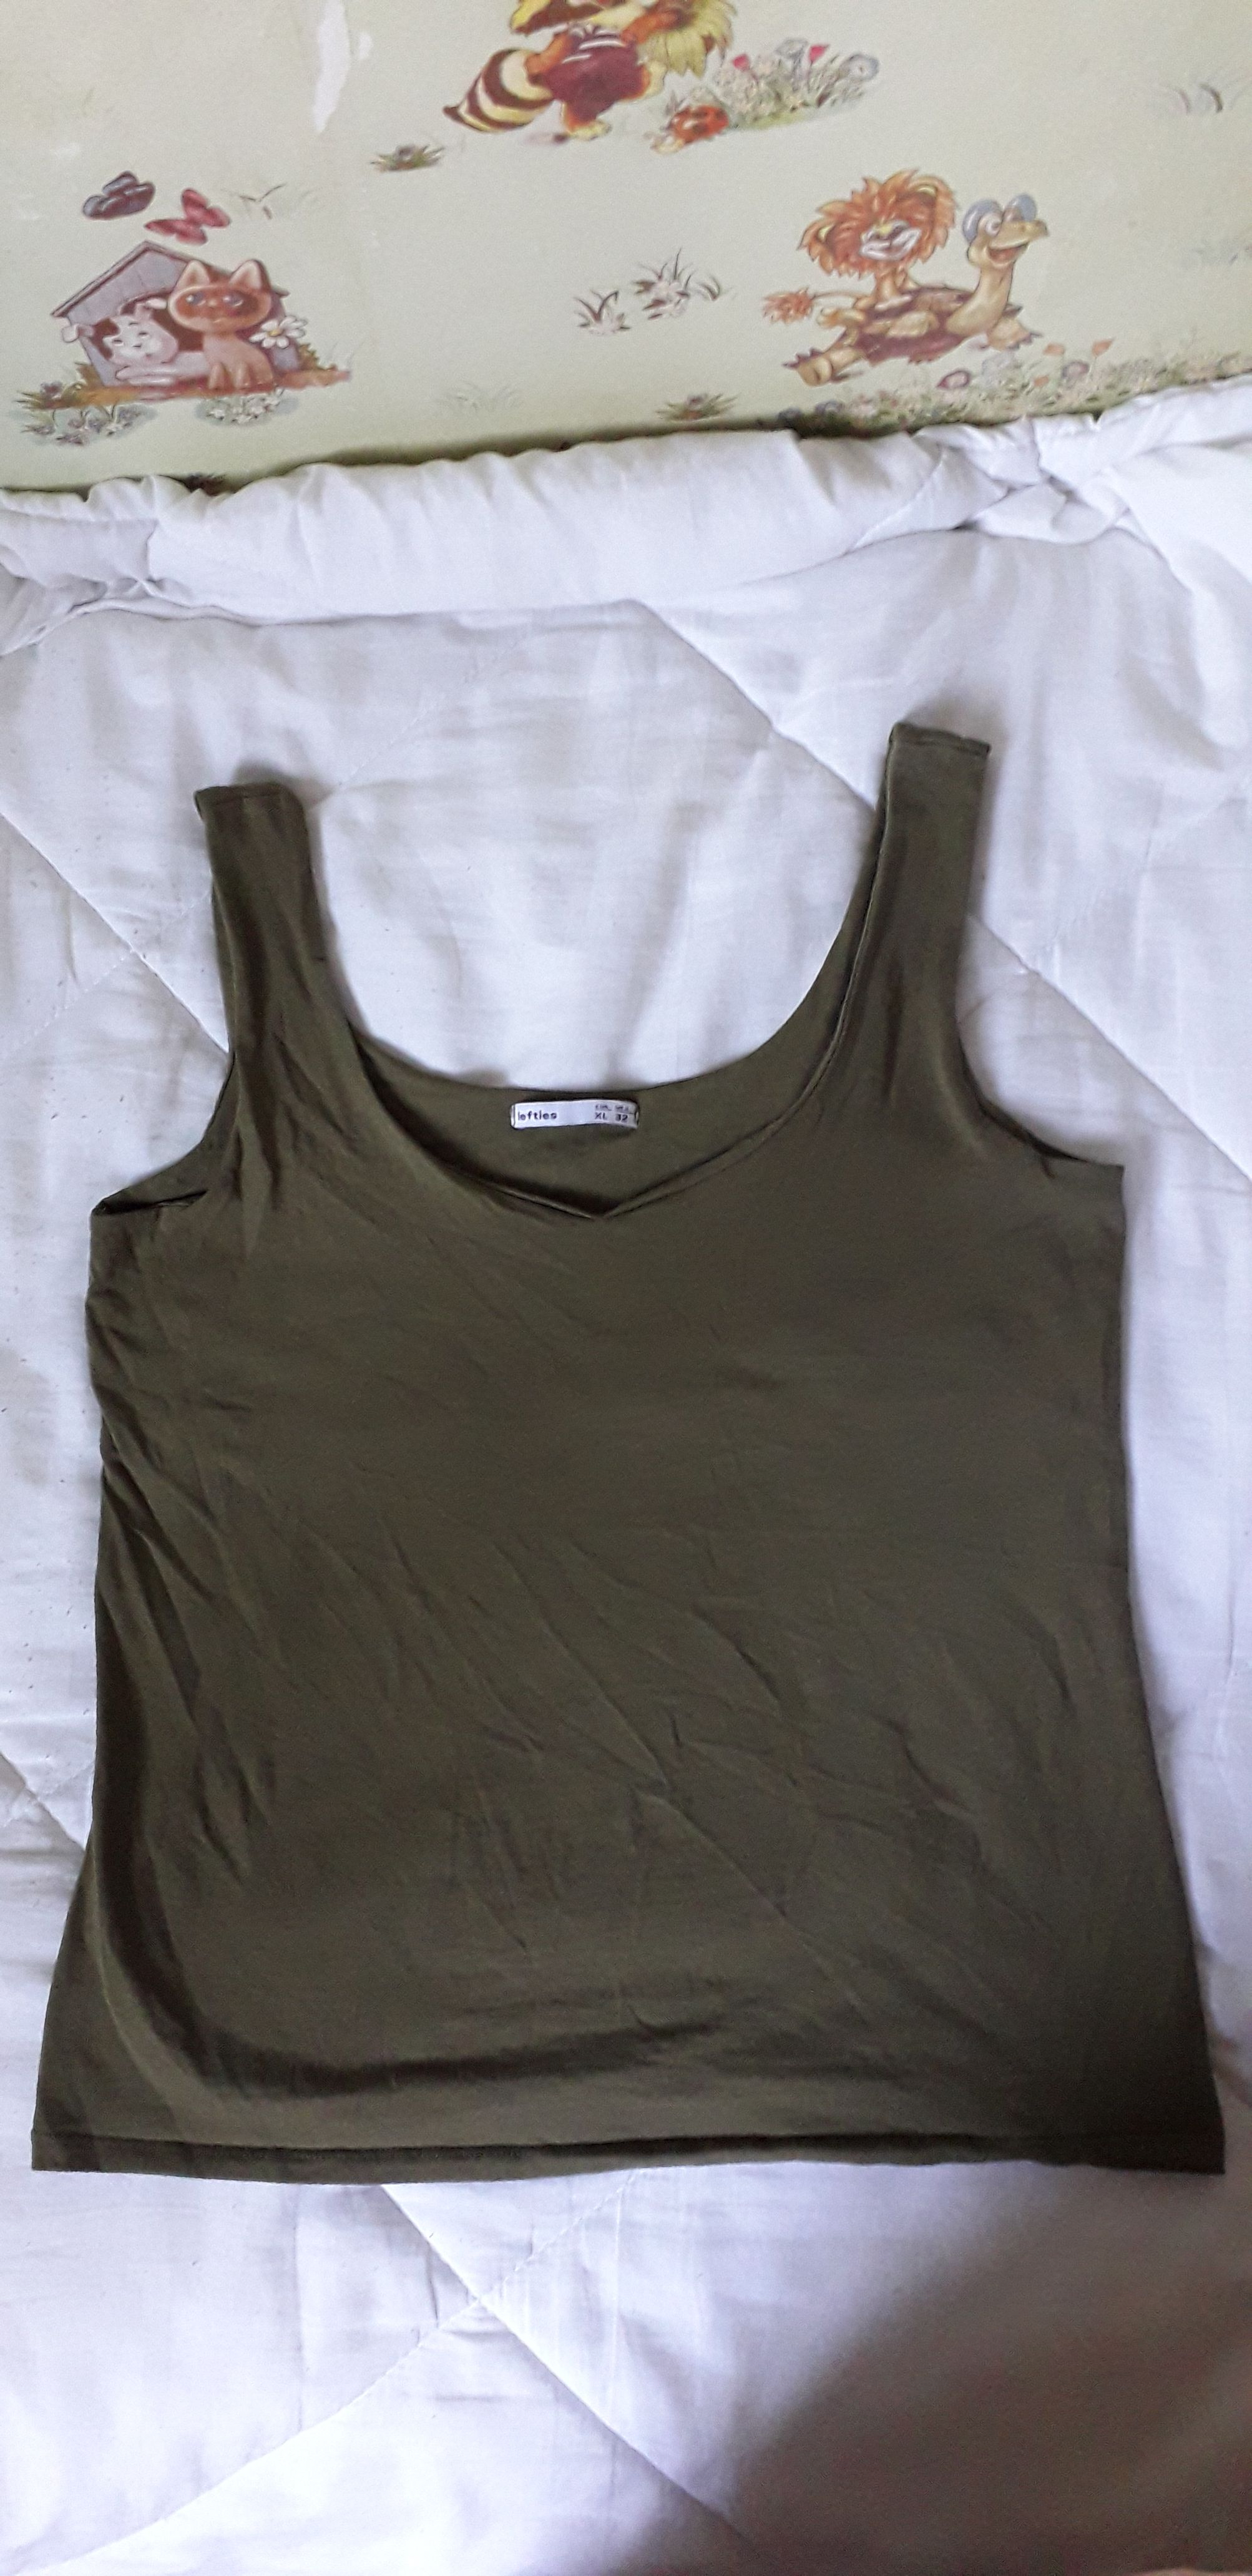clothes: (15, 726, 1221, 2187)
